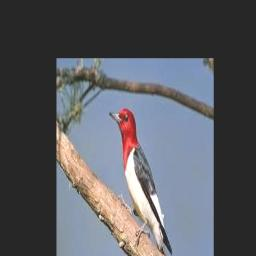Woodpecker: (109, 107, 173, 256)
